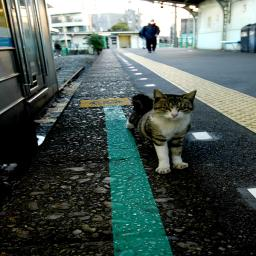catnose: (170, 113, 179, 117)
